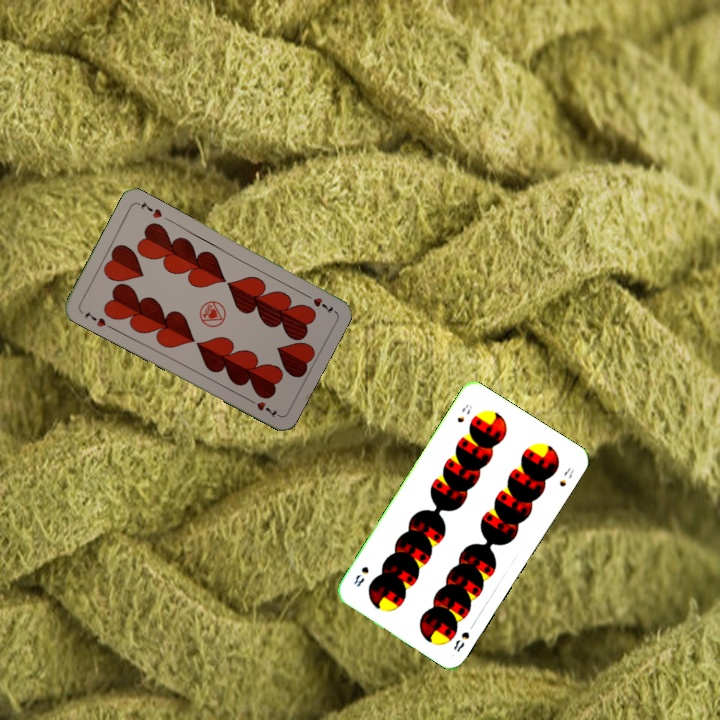H7: (300, 290, 336, 316), (80, 307, 108, 330)
S8: (449, 628, 472, 654), (453, 400, 475, 425)
